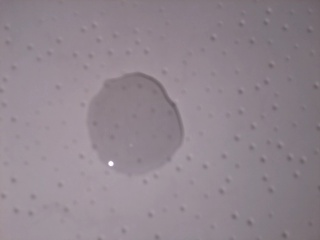Water_detected: (101, 88, 162, 159)
